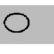no answer: (2, 10, 32, 36)
